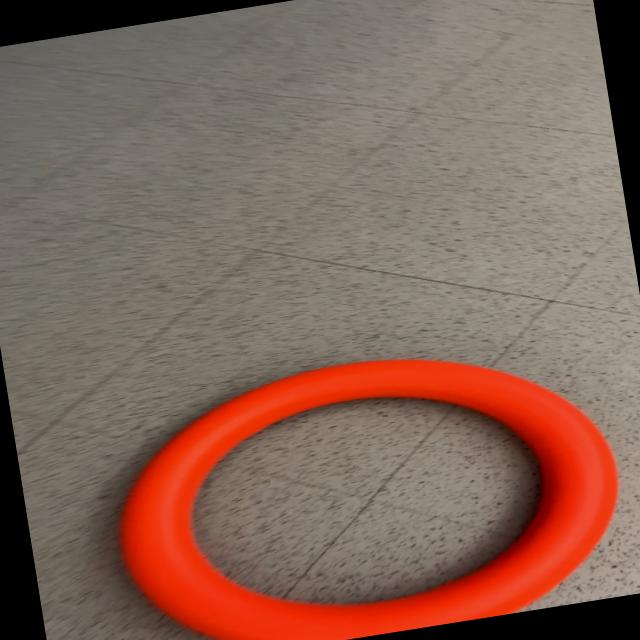note: (95, 321, 639, 640)
